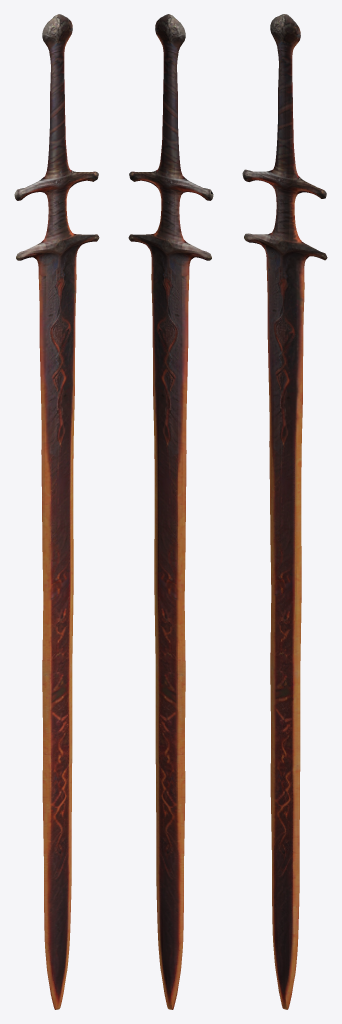
File: lava_sword.glb
3 renders of one model, left to right at view 1: azimuth 30°, elevation 25°; view 2: azimuth 150°, elevation 25°; view 3: azimuth 330°, elevation 25°, orthographic.
Visible parts, largest first — view 1: Grid; view 2: Grid; view 3: Grid.
Boxes of the visible parts, bbox=[...] form: Grid: bbox=[14, 14, 99, 1009]; Grid: bbox=[128, 14, 213, 1009]; Grid: bbox=[242, 14, 327, 1009].
Bounding box in the file's own units: 0.3391 × 3.79 × 0.0437.
Materials: 1 (1 with a texture image).
